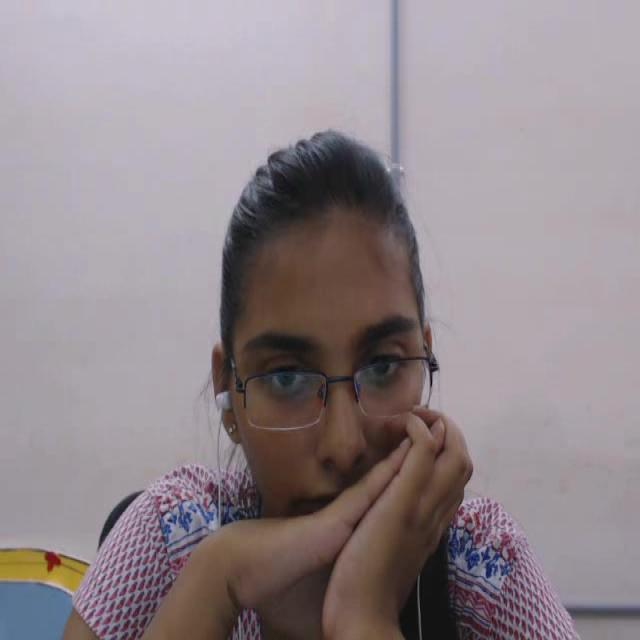Bored: (171, 122, 474, 554)
